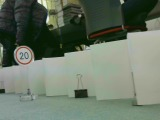speed_20: (12, 45, 35, 67)
